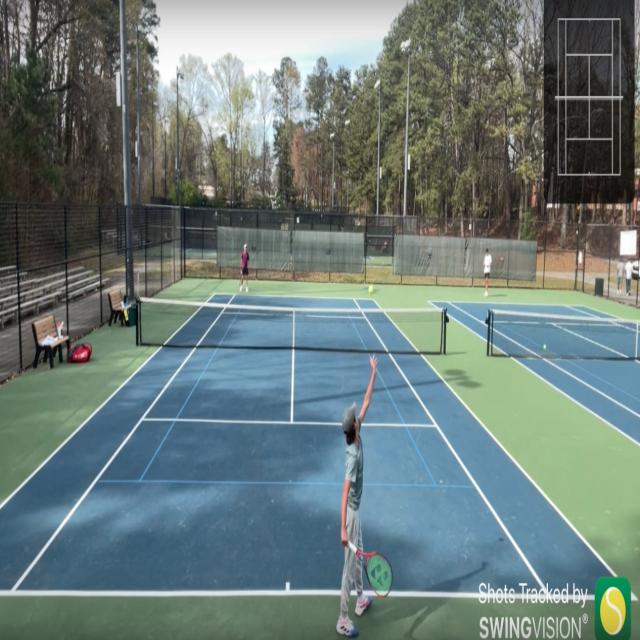ball: (368, 285, 374, 296), (542, 344, 546, 351)
